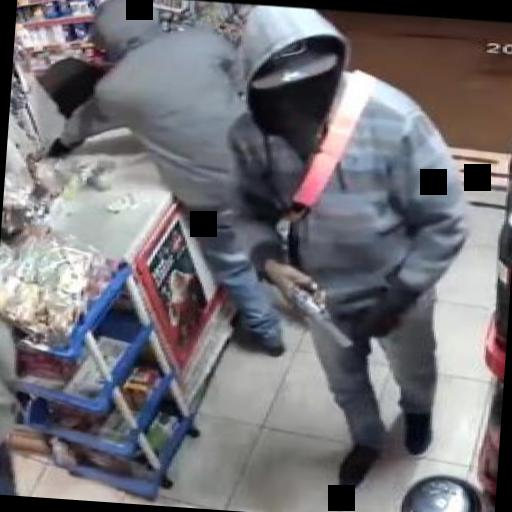Handgun: (268, 268, 362, 352)
